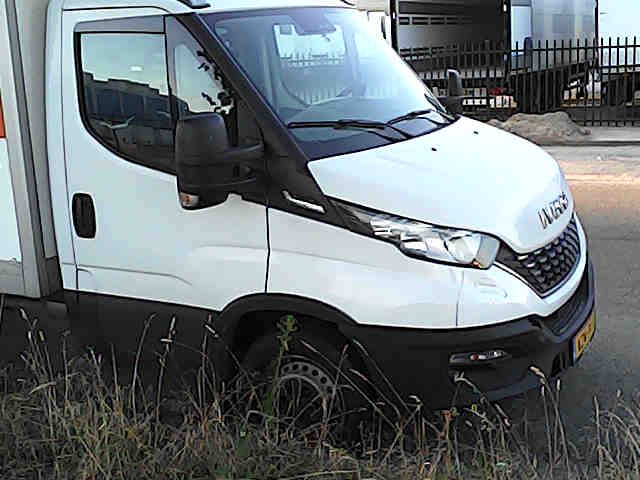whitevan: (0, 0, 594, 407)
